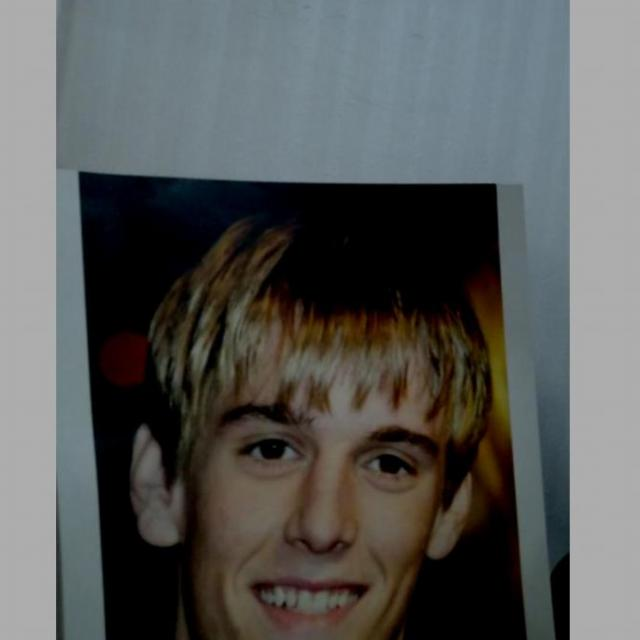photo: (59, 170, 561, 640)
